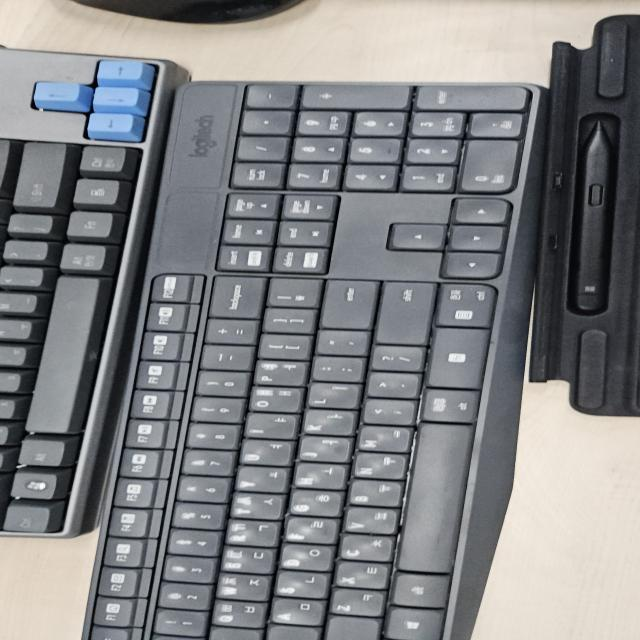Keyboard: (122, 85, 527, 640)
